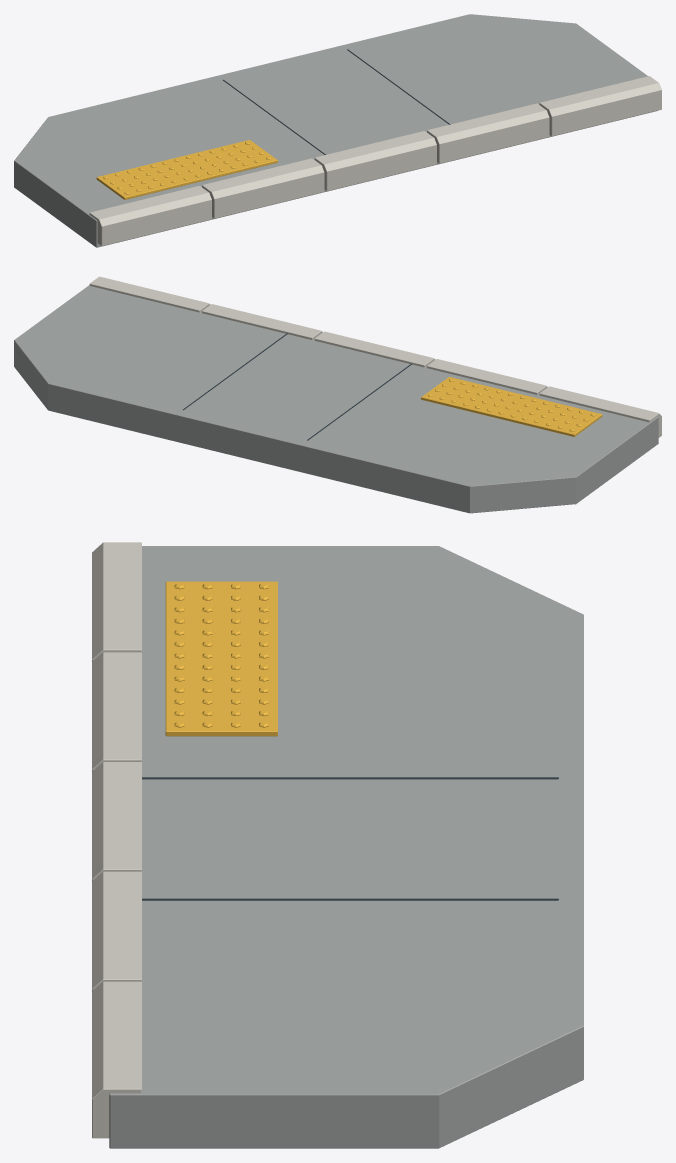
File: b13_bus_bulb_boarding_pad.glb
3 views of the same model, one above another, from view 1: azimuth 30°, elevation 25°; view 2: azimuth 150°, elevation 25°; view 3: azimuth 270°, elevation 25° (orthographic). The views are drawn at different scales.
Visible parts, largest first — view 1: b13_bus_bulb_boarding_pad; view 2: b13_bus_bulb_boarding_pad; view 3: b13_bus_bulb_boarding_pad.
Part boxes in pixels (x1=…): b13_bus_bulb_boarding_pad: x1=14, y1=14, x2=661, y2=247; b13_bus_bulb_boarding_pad: x1=14, y1=276, x2=661, y2=513; b13_bus_bulb_boarding_pad: x1=92, y1=542, x2=583, y2=1148.
Bounding box in the file's own units: 5.2 × 0.274 × 1.97.
